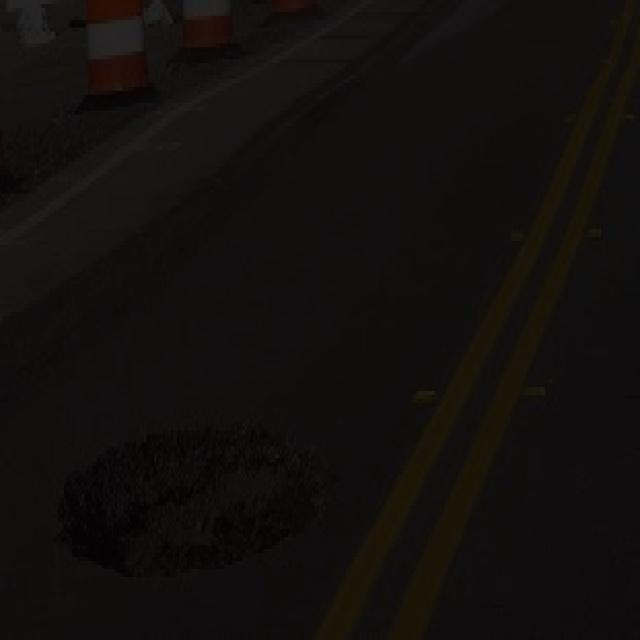Pothole: (48, 423, 334, 581)
